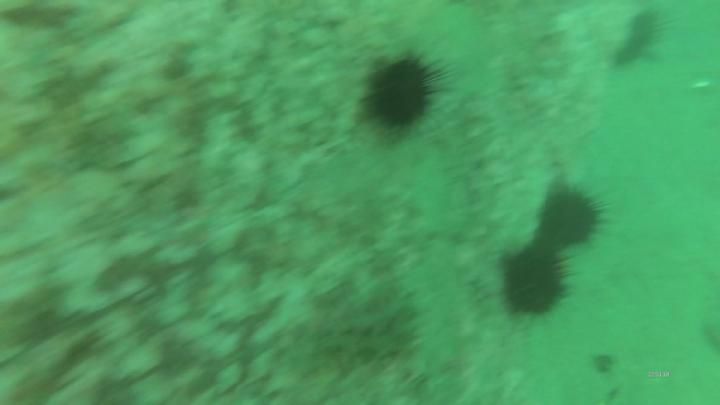echinus: (367, 56, 436, 131), (503, 248, 569, 319), (540, 189, 600, 249), (629, 12, 661, 49)
